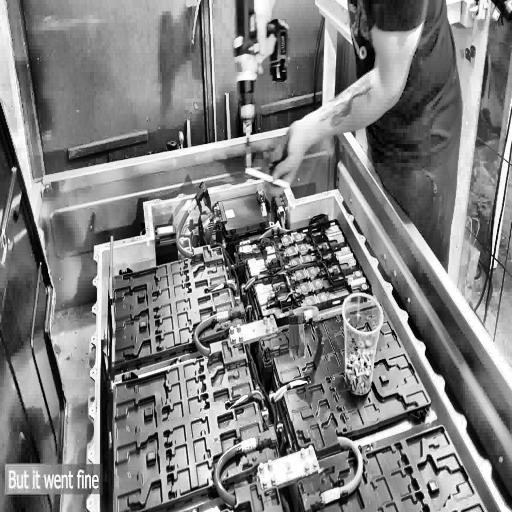high_volt_cable: (319, 434, 366, 508), (213, 435, 260, 503), (191, 306, 232, 358), (174, 194, 203, 260), (284, 300, 321, 333), (260, 212, 290, 240)
low_volt_cable: (222, 239, 292, 454), (287, 231, 350, 290), (228, 377, 310, 412), (209, 264, 282, 299), (282, 278, 300, 305), (270, 241, 287, 265)
nut: (303, 462, 310, 472), (312, 459, 319, 469), (262, 478, 268, 488), (267, 459, 273, 468), (308, 445, 314, 454), (300, 448, 306, 456), (259, 462, 264, 471), (236, 324, 242, 331), (271, 476, 276, 484), (263, 316, 268, 324), (238, 334, 244, 340), (270, 314, 274, 322), (272, 325, 277, 331), (230, 326, 234, 332), (232, 336, 236, 342), (266, 326, 270, 332)
